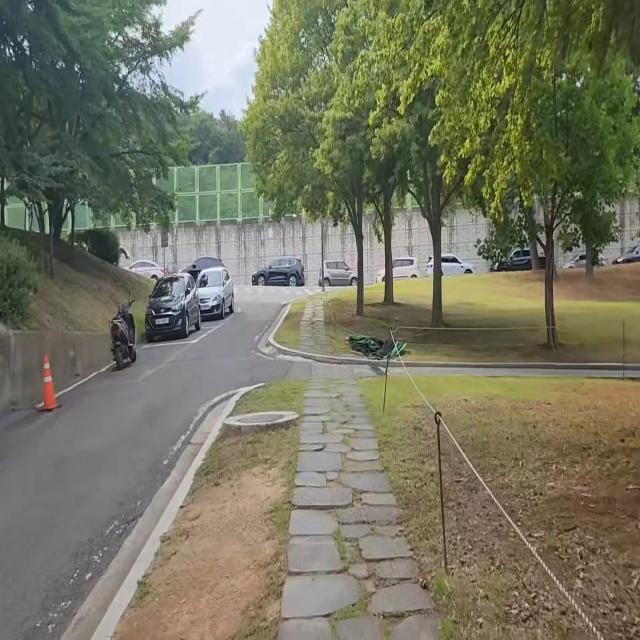obstacle: (140, 255, 242, 351), (100, 279, 142, 381), (37, 344, 66, 416)
sidewalk: (298, 290, 327, 360)
